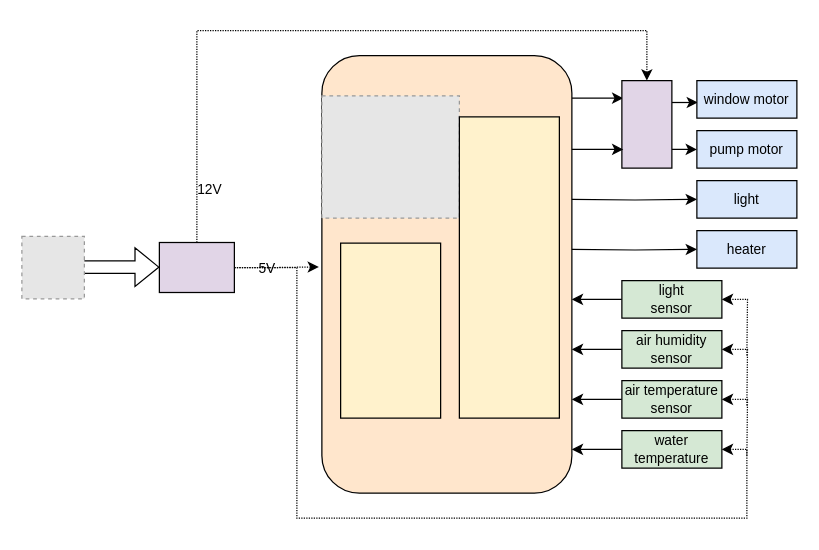
This 819x550 diagram has some shape labels left out. Grey dashed boxes stand in for pictures. Each missing label, with the centre of its shape:
AC-DC converter: point (196, 266)
ARM Cortex-A72: point (390, 330)
GPIO: point (508, 267)
H bridge: point (646, 123)
